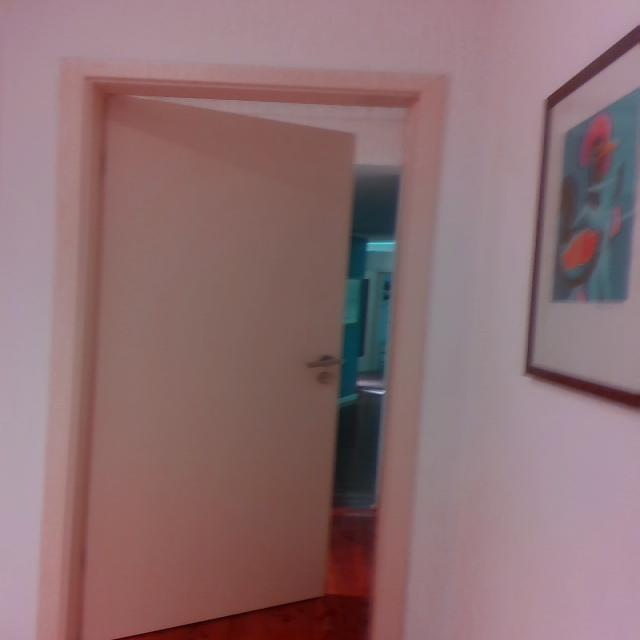door: (75, 91, 356, 638)
